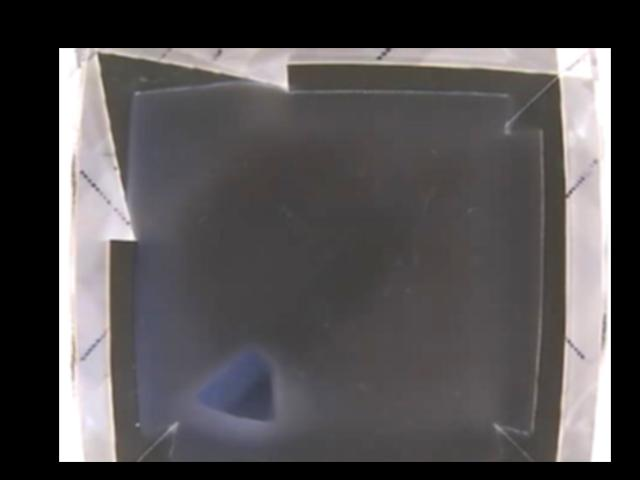Mooli: (191, 347, 275, 423)
